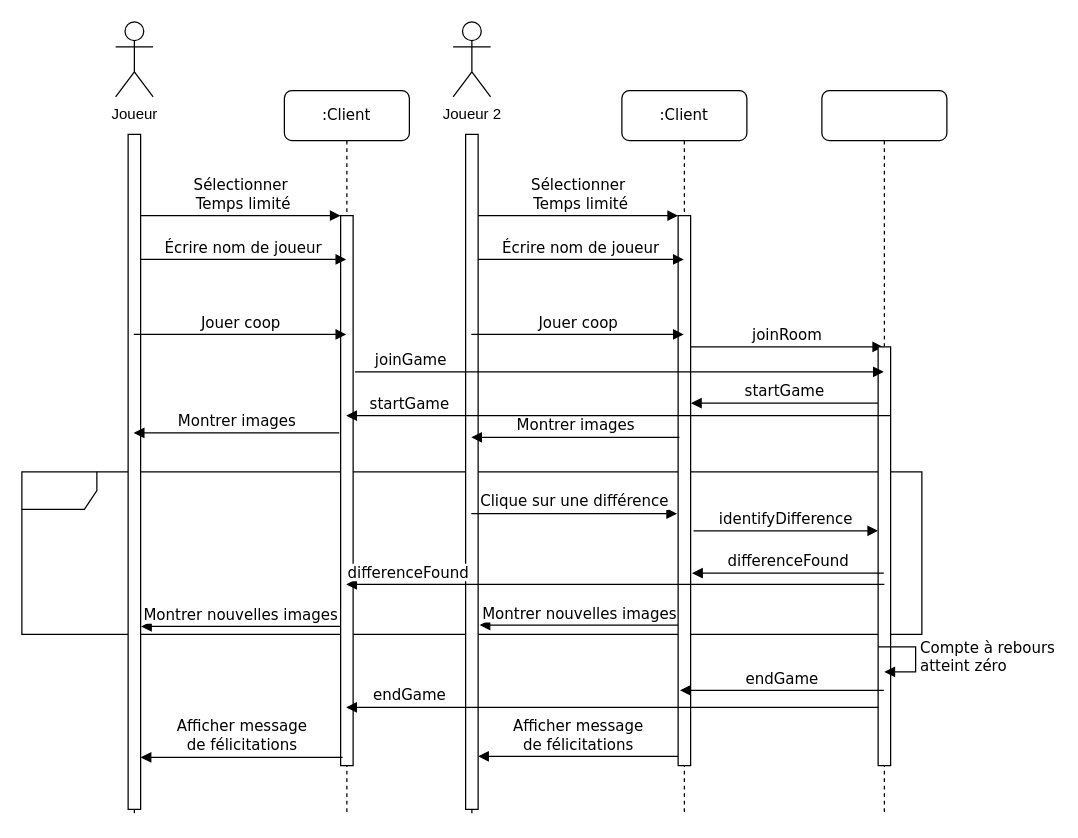
Some shapes in this 1078 by 838 pixel diagram are drawn without their labels. Here are the shapes that lost their labels. From the top down, the box of each, then its label:
(821, 89, 947, 816): :Server
(21, 471, 922, 634): loop
